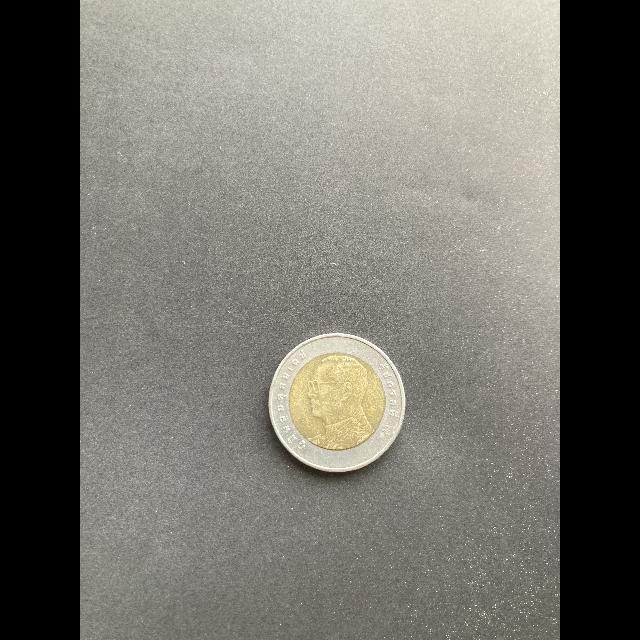10 Bath: (266, 331, 410, 478)
